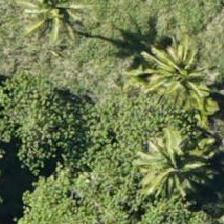coconut_tree: (133, 125, 223, 215), (134, 30, 223, 120), (18, 0, 108, 45)
